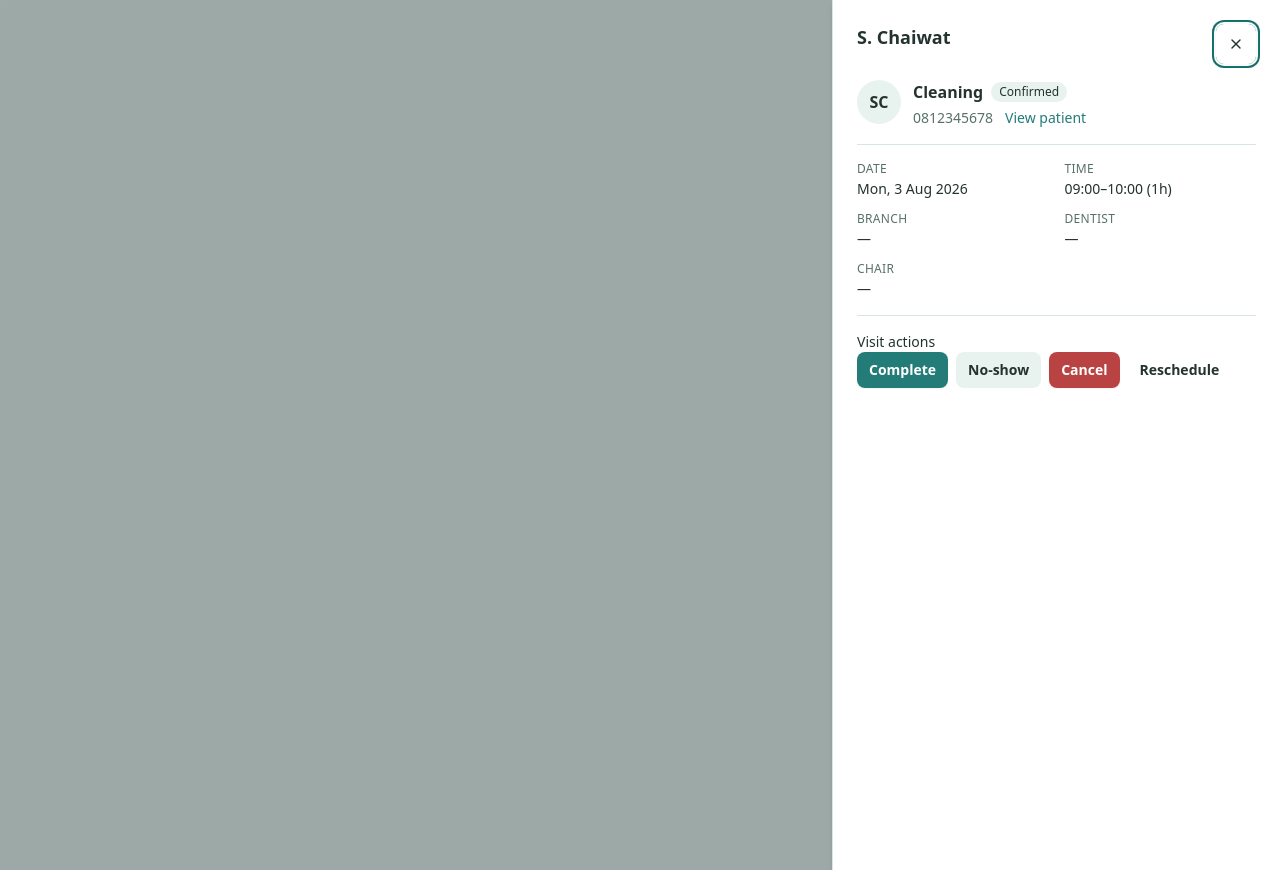
Scenario: AppointmentDrawer › cannot offer a slot the appointment itself occupies, because availability counts it as busy
Click the button "Reschedule": click(1179, 370) top-left (1128, 352), bottom-right (1231, 388)
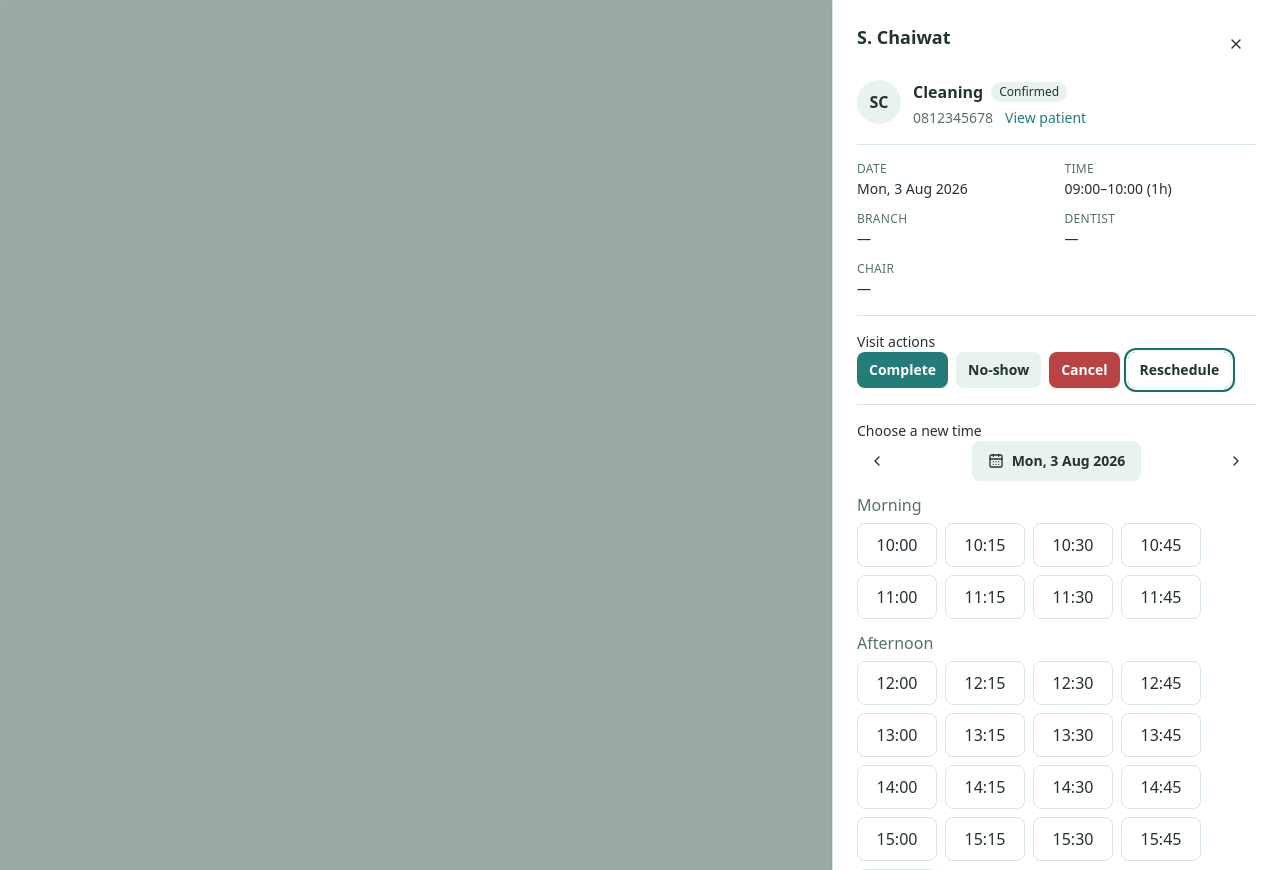
Now the button "10:00" is shown, box top-left (857, 523), bottom-right (937, 567)
